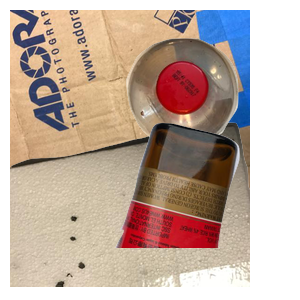cardboard: (10, 10, 250, 190)
glass: (113, 120, 300, 300)
plastic: (124, 36, 300, 175)
trash: (10, 120, 250, 300)
